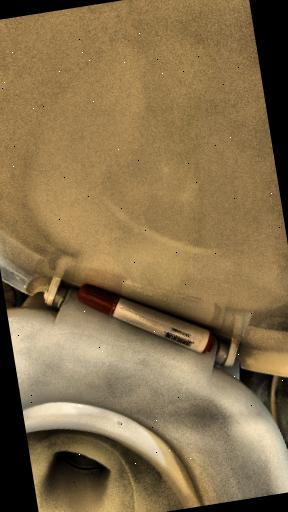marcador rojo: (78, 284, 215, 353)
